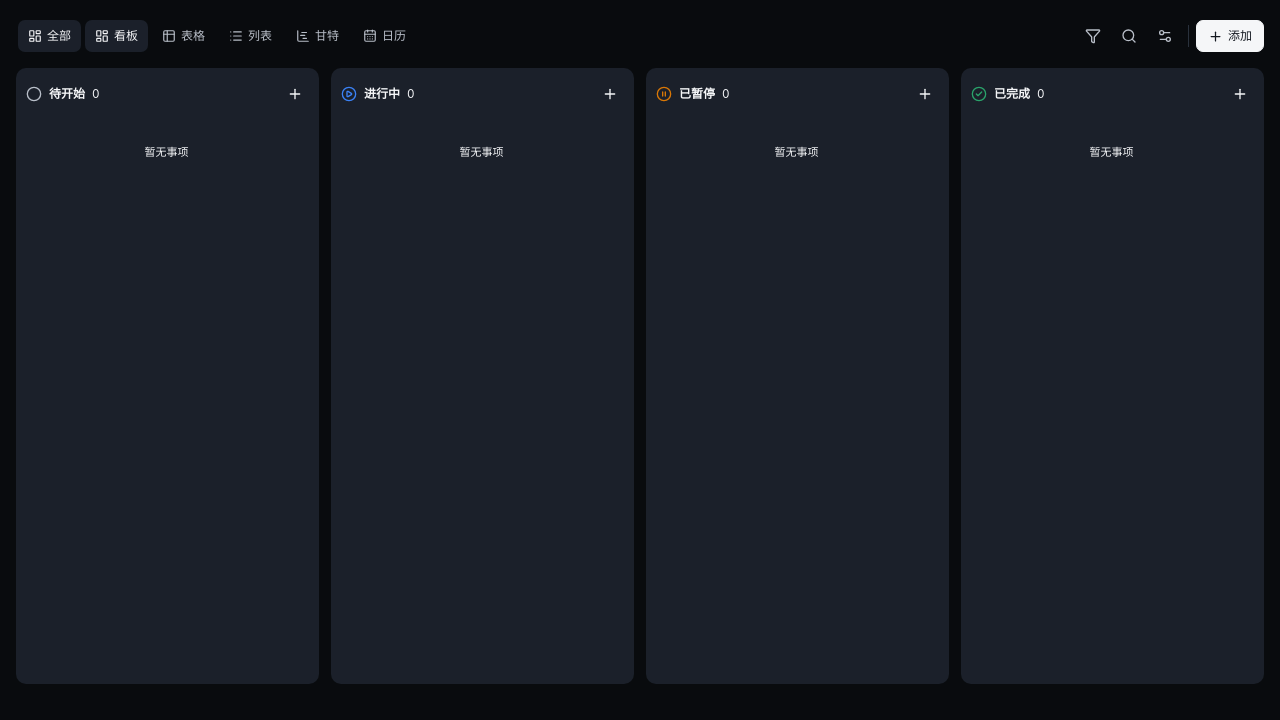
Test: WorkBuddy cloud plan workspace › shows an attachment in detail after creating and binding the work item
Click the button "添加": click(1230, 36) top-left (1196, 20), bottom-right (1264, 52)
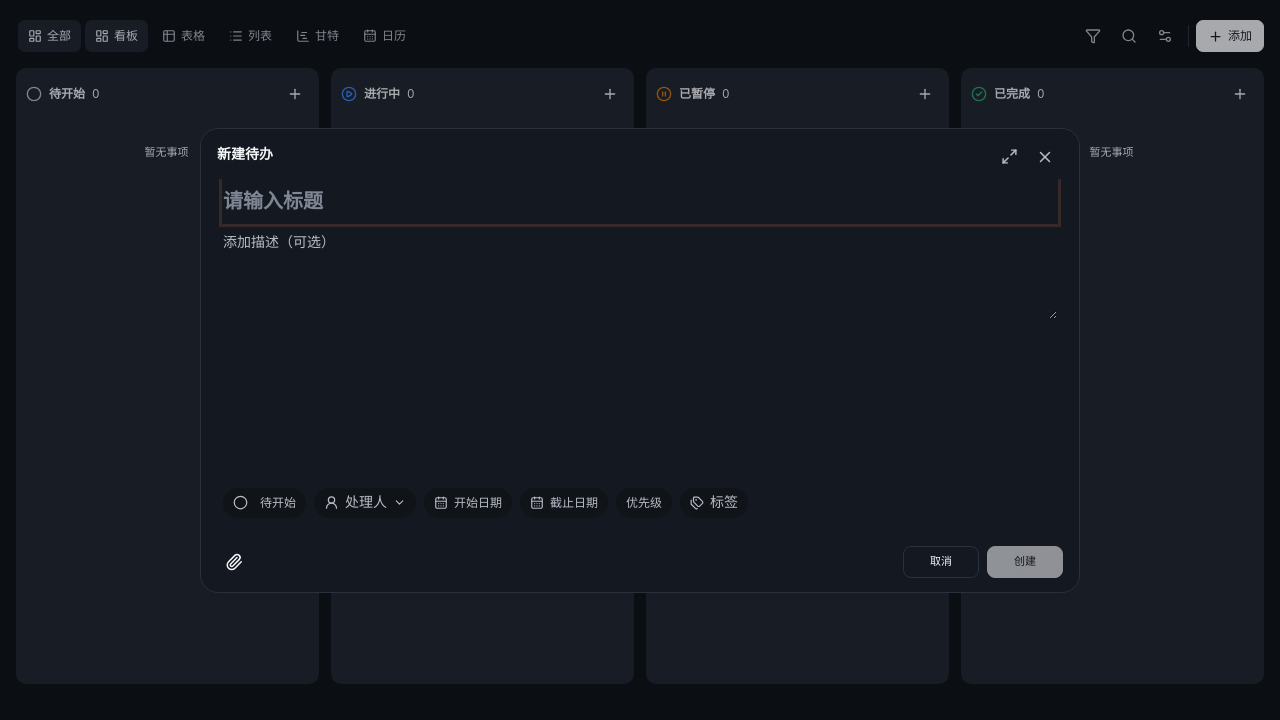
In the field labelled "标题": (640, 201) top-left (223, 179), bottom-right (1057, 223), type "新建附件事项"
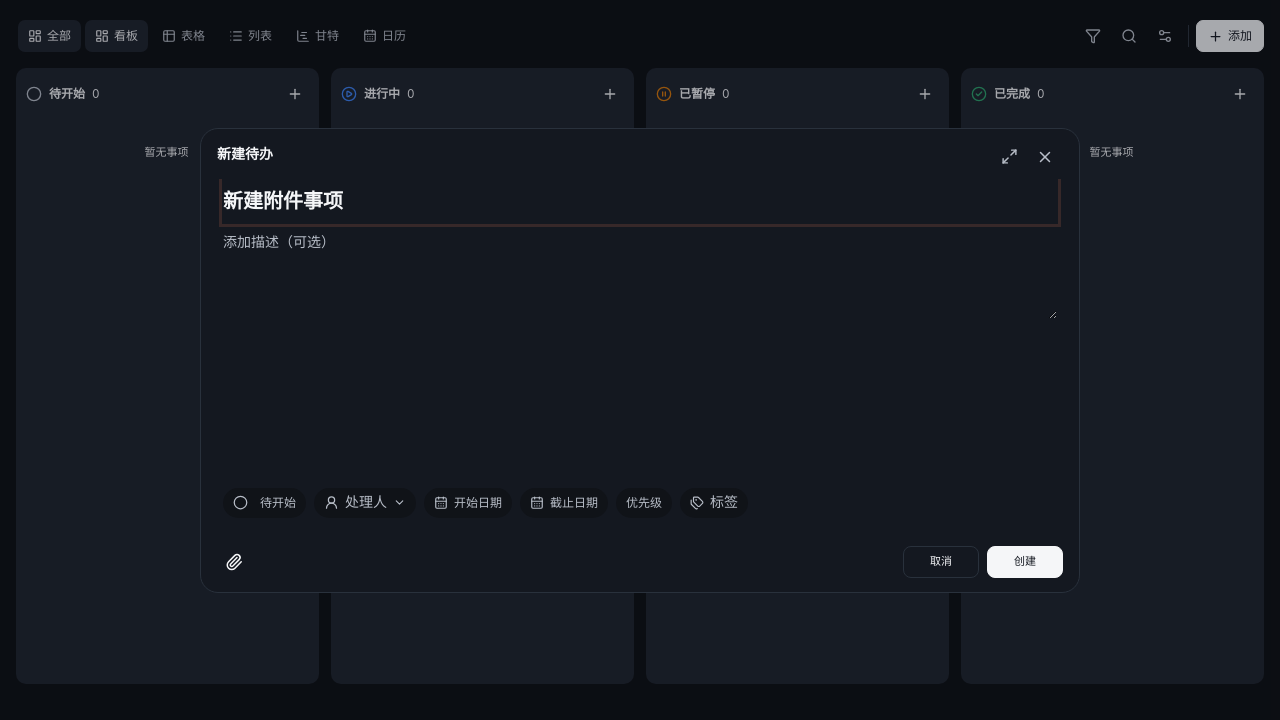
Click the button named "添加附件": click(234, 562) top-left (217, 546), bottom-right (251, 578)
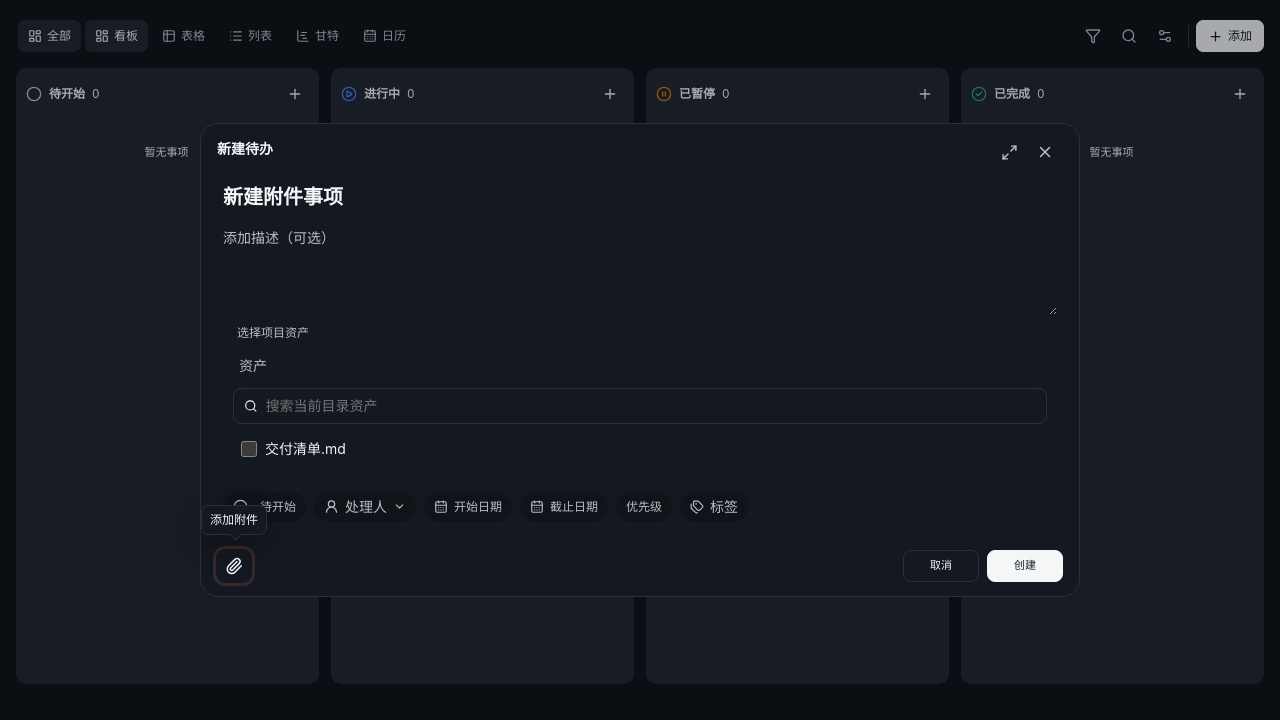
Click the checkbox labelled "交付清单.md": click(249, 449) top-left (241, 441), bottom-right (257, 457)
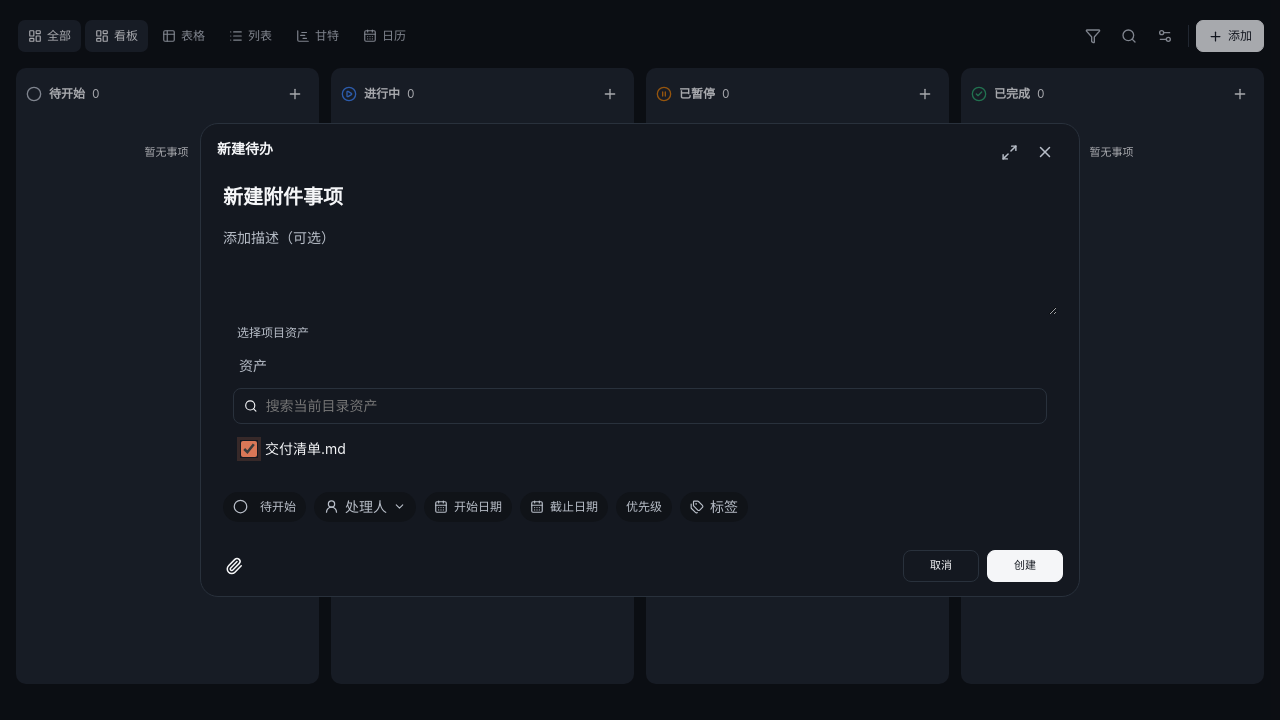
Click the button "创建": click(1025, 566) top-left (987, 550), bottom-right (1063, 582)
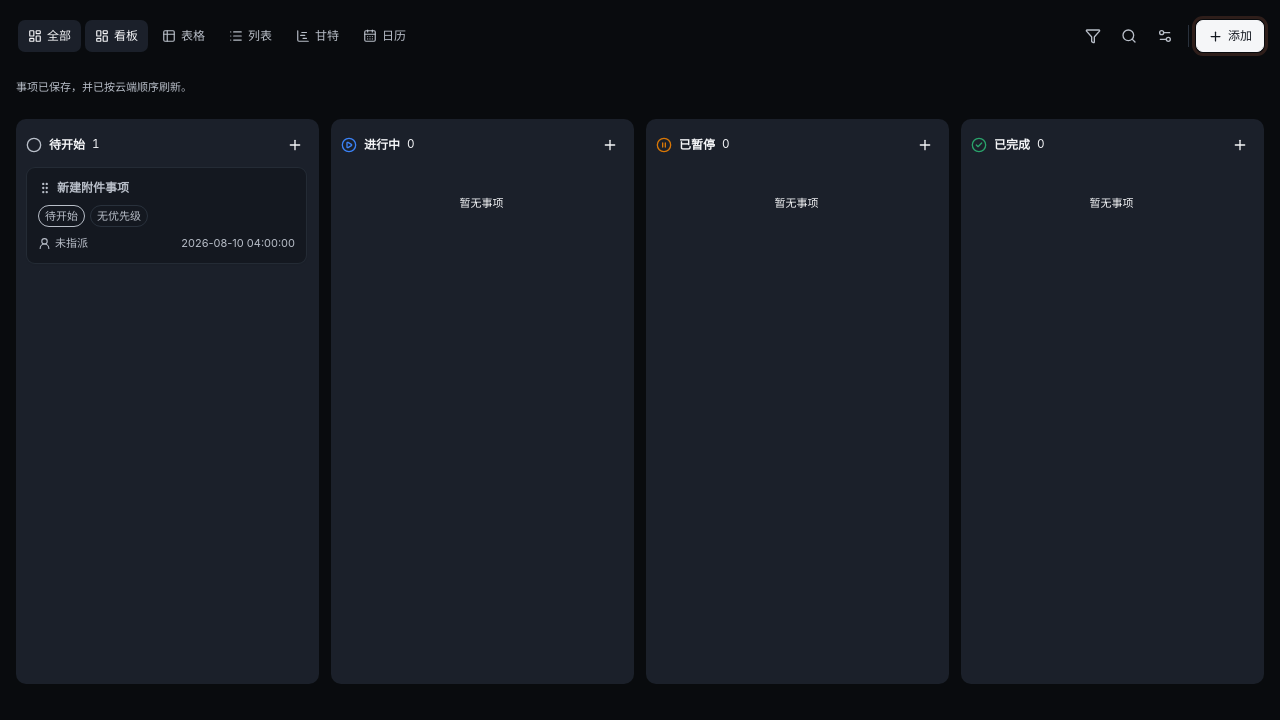
Click the button "新建附件事项 待开始 无优先级 未指派 2026-08-10 04:00:00": click(93, 187) top-left (27, 168), bottom-right (306, 262)
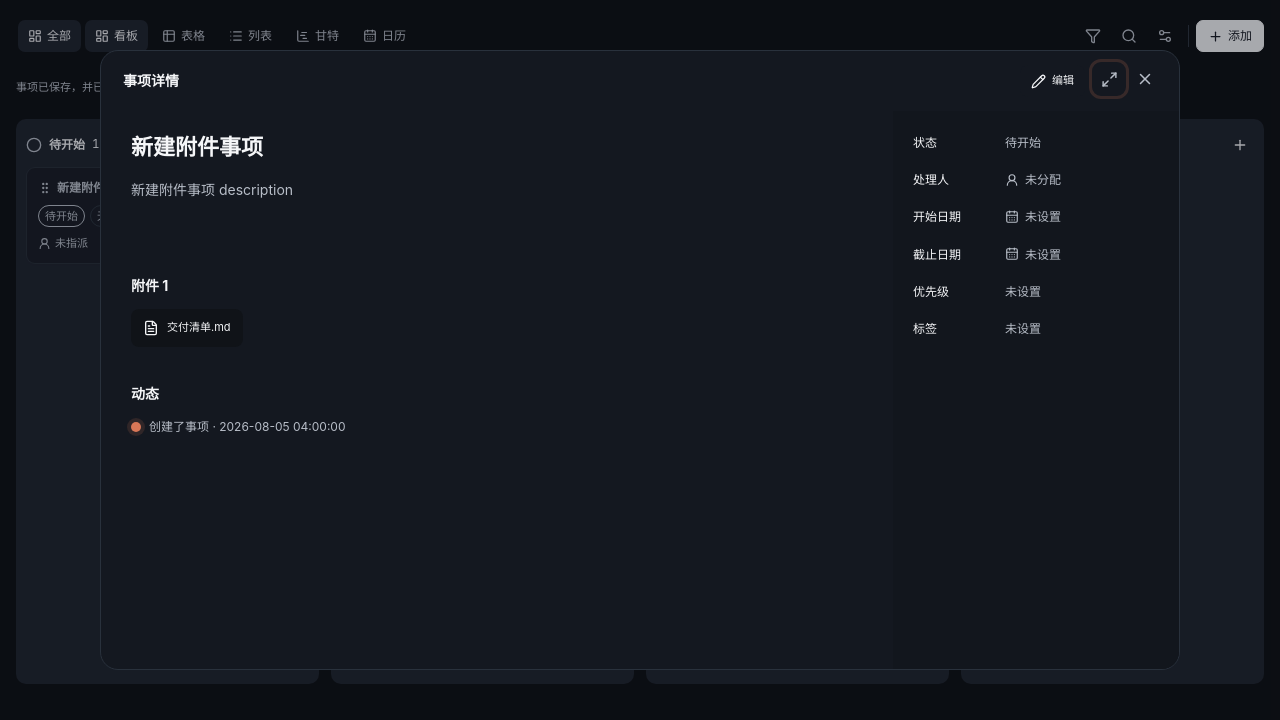
Expected: the dialog "事项详情" shows "交付清单.md", top-left (131, 309), bottom-right (242, 347)
